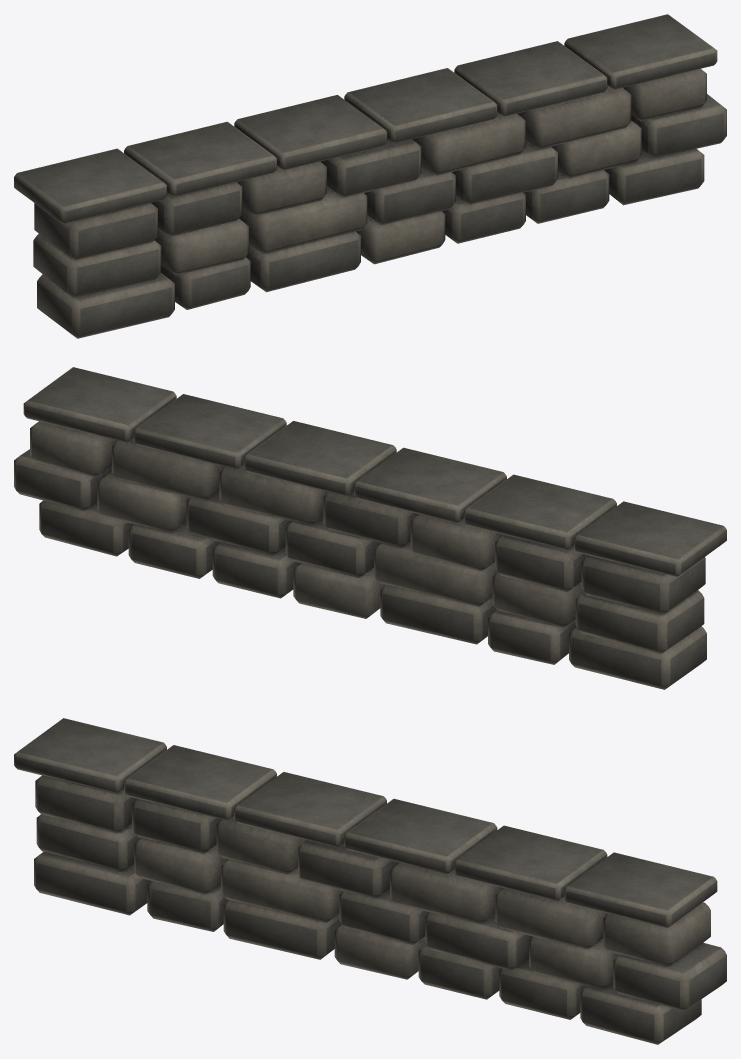
File: stone_wall_seg.glb
3 views of the same model, one above another, from view 1: azimuth 30°, elevation 25°; view 2: azimuth 150°, elevation 25°; view 3: azimuth 330°, elevation 25° (orthographic).
Visible parts, largest first — view 1: StoneWallSeg; view 2: StoneWallSeg; view 3: StoneWallSeg.
Boxes of the visible parts, x1,y1,x2,y2 form: StoneWallSeg: (14,14,726,338); StoneWallSeg: (14,367,726,689); StoneWallSeg: (14,718,726,1044).
Size of the model in its own units: 4.04 by 0.8 by 0.52.
1 material, 1 textured.
